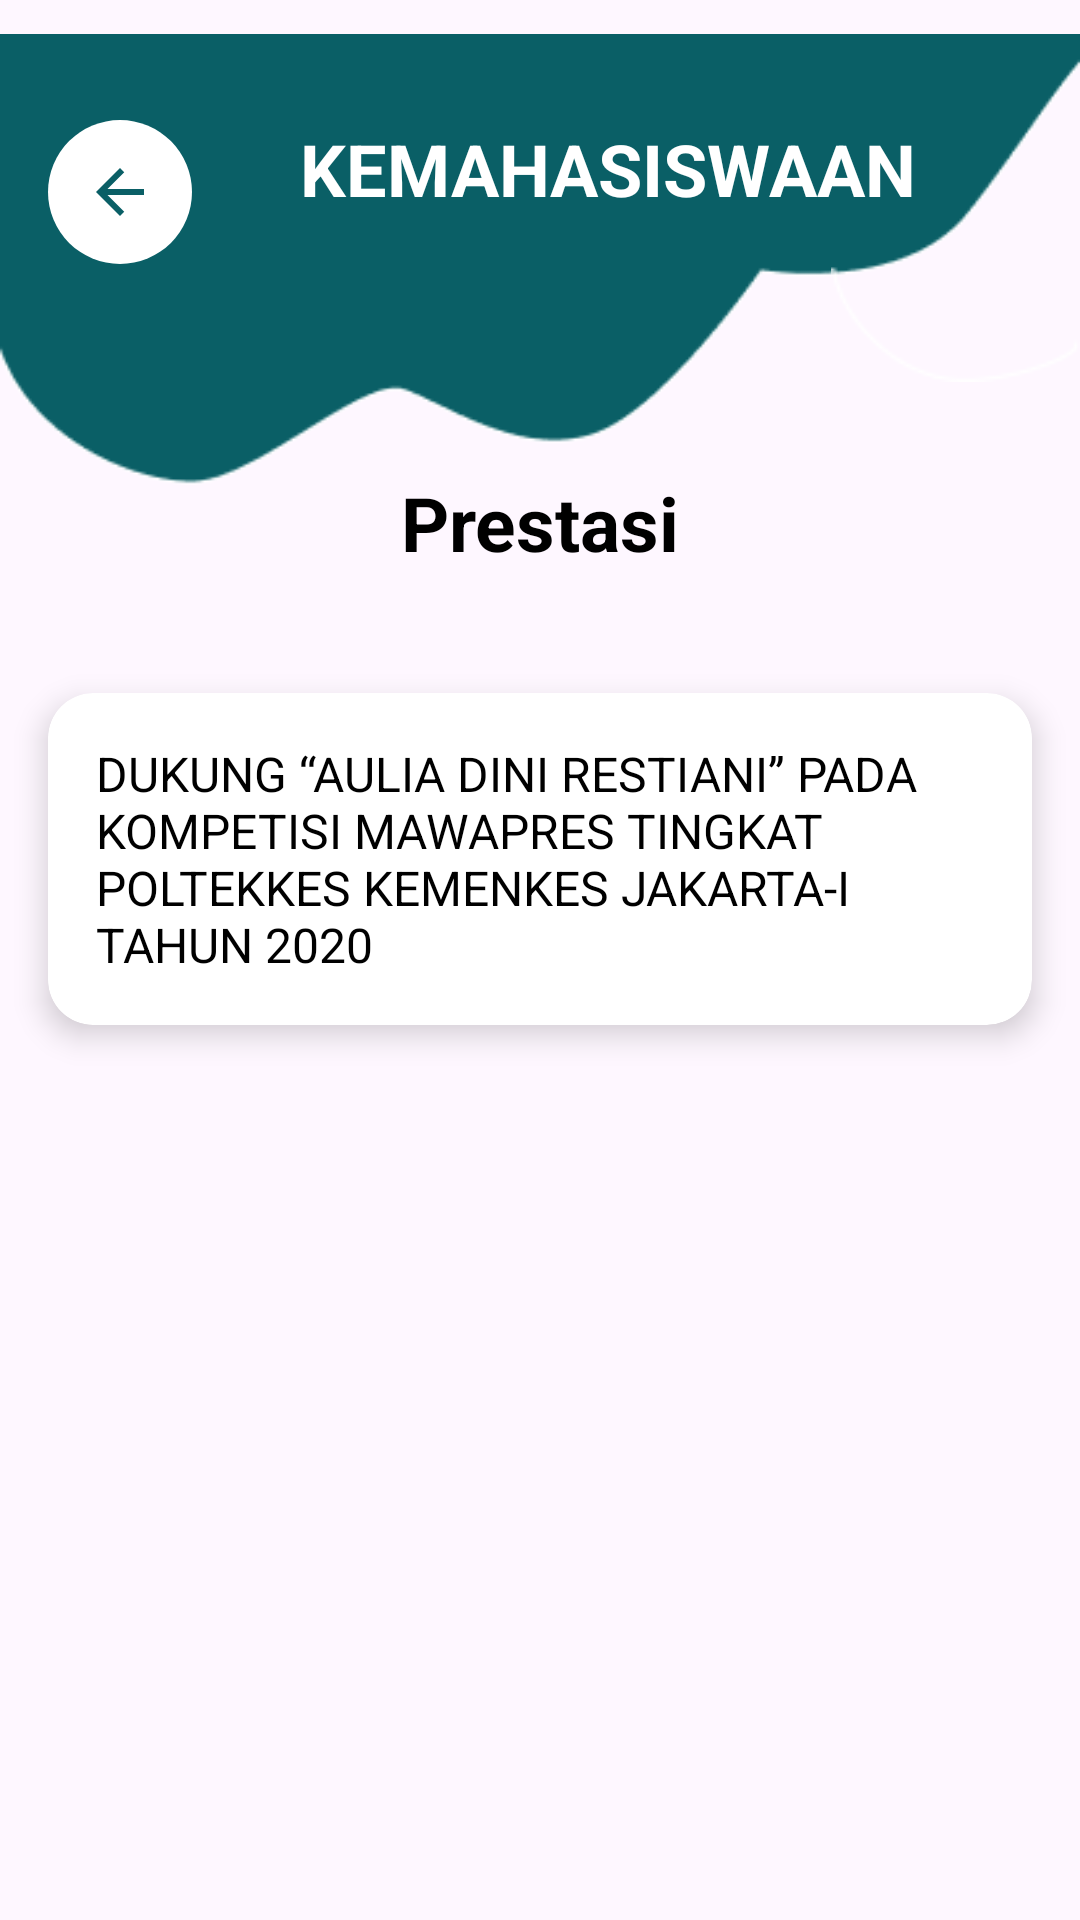

Icons on this 1080*1920 Android screen, each with its box as (x1,y1,x2,y2):
back: (48,120,192,264)
